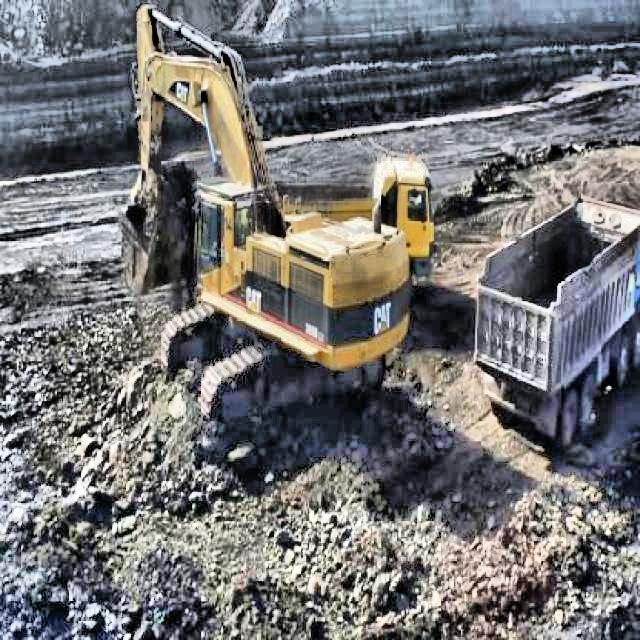dump_truck: (472, 195, 640, 452), (282, 156, 436, 282)
excavator: (124, 4, 410, 487)
